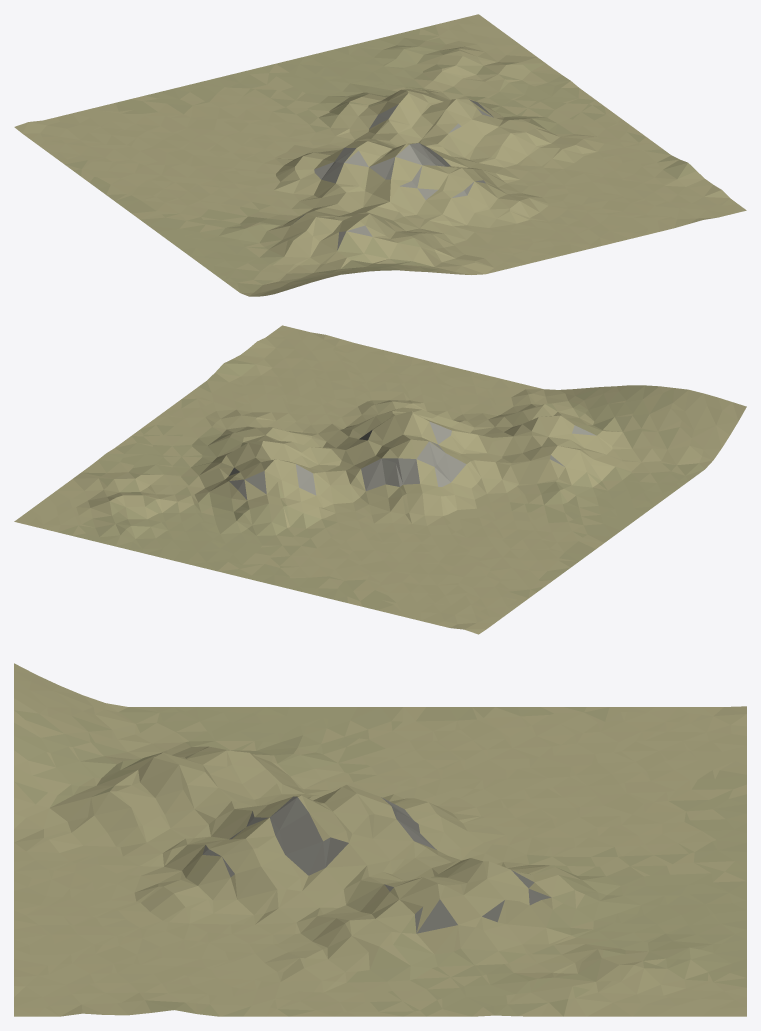
The model's file is Ground_6_-5.glb.
The picture shows the model from 3 angles, top to bottom: view 1: azimuth 30°, elevation 25°; view 2: azimuth 150°, elevation 25°; view 3: azimuth 270°, elevation 25°; orthographic projection. The views are drawn at different scales.
Visible parts, largest first — view 1: Ground_6_-5; view 2: Ground_6_-5; view 3: Ground_6_-5.
Part boxes in pixels (x1,y1,x2,y2): Ground_6_-5: [14, 14, 746, 296]; Ground_6_-5: [14, 325, 746, 634]; Ground_6_-5: [14, 663, 746, 1016].
Size of the model in its own units: 768 by 74.34 by 768.
